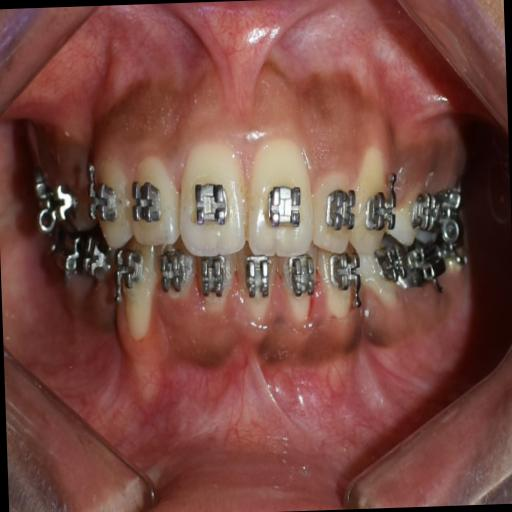correct_brace: (265, 179, 304, 233), (190, 177, 228, 228), (365, 183, 398, 235), (127, 180, 163, 222), (326, 188, 357, 232), (87, 178, 116, 224)
incorrect_brace: (130, 157, 179, 247), (312, 159, 354, 253)
